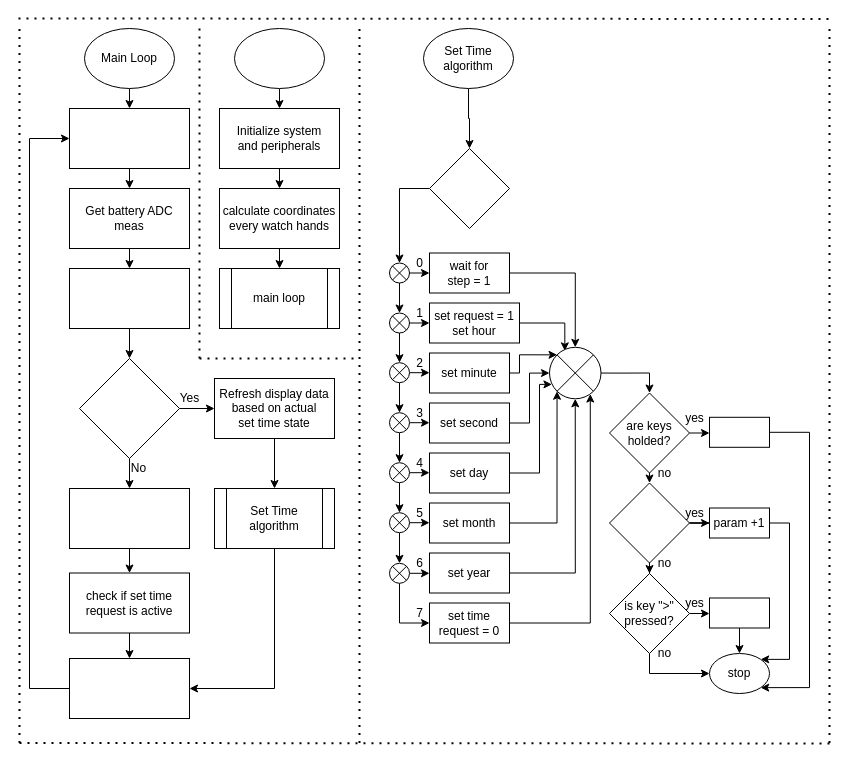
Some shapes in this 848 by 762 pixel diagram are drawn without their labels. Here are the shapes that lost their labels. From the top down, the centre of each, then its label:
point (279, 58): Start
point (129, 138): Get RTC Time & Date
point (469, 188): Check Set Time step
point (129, 298): Set color of displayed hands
point (129, 408): Is Set Time request active?
point (739, 431): step +1
point (129, 518): Refresh display data based on actual time & date
point (649, 522): is key "<" pressed?
point (739, 612): param -1
point (129, 688): check state of device based on battery ADC meas and charging state
